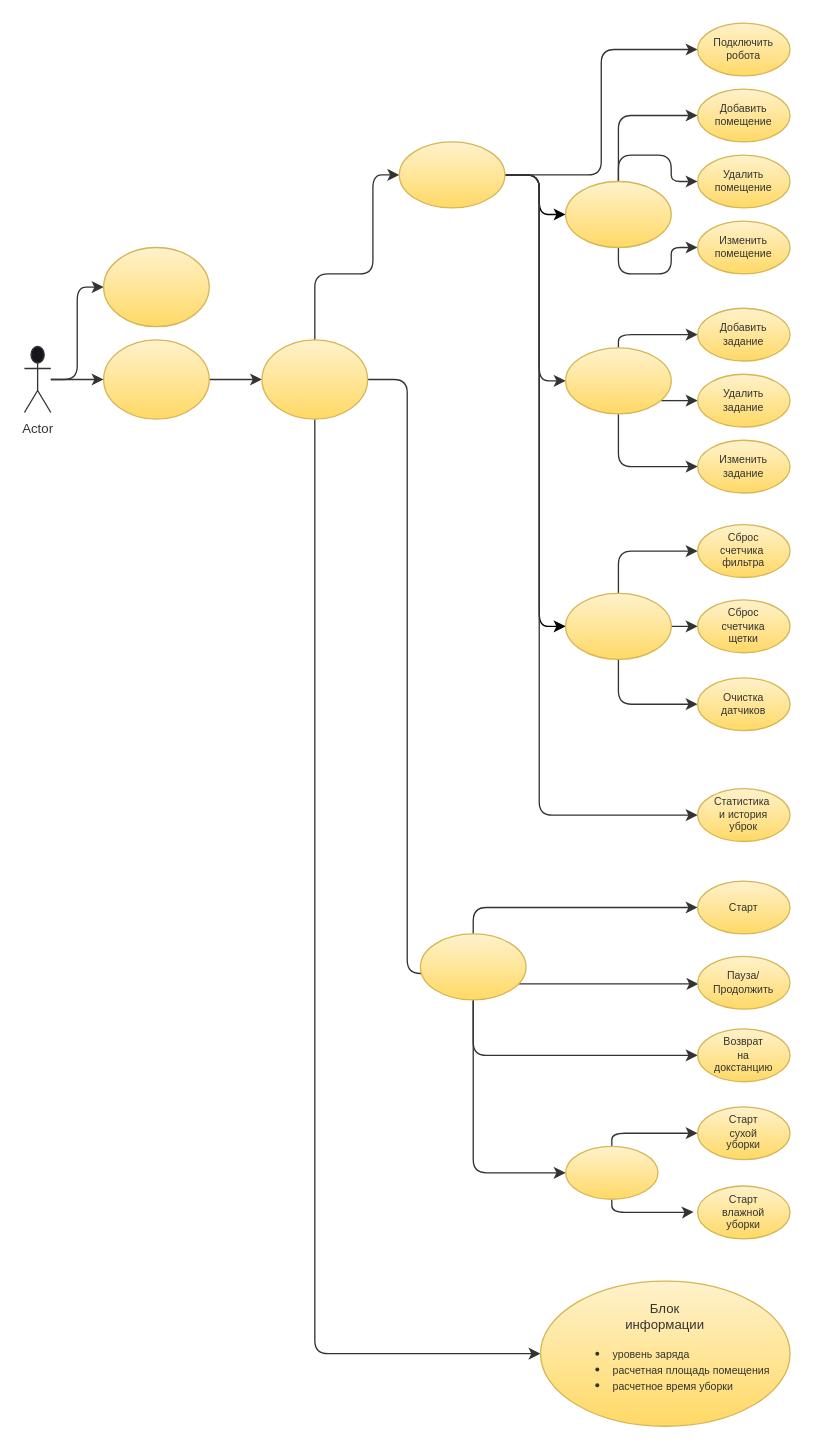
Image size: 813x1449. Some labels were removed from this diagram. Here are the shapes that lost their labels. From the top down, the centre of each, then its label:
At (451,174): "Меню".
At (617,214): "Управление помещениями".
At (155,286): "Регистрация".
At (155,379): "Авторизация".
At (314,379): "Главный экран".
At (617,380): "Расписание работы".
At (617,625): "Сервисное обслуживание".
At (472,966): "Панель управления".
At (611,1172): "Выбор программы уборки".
